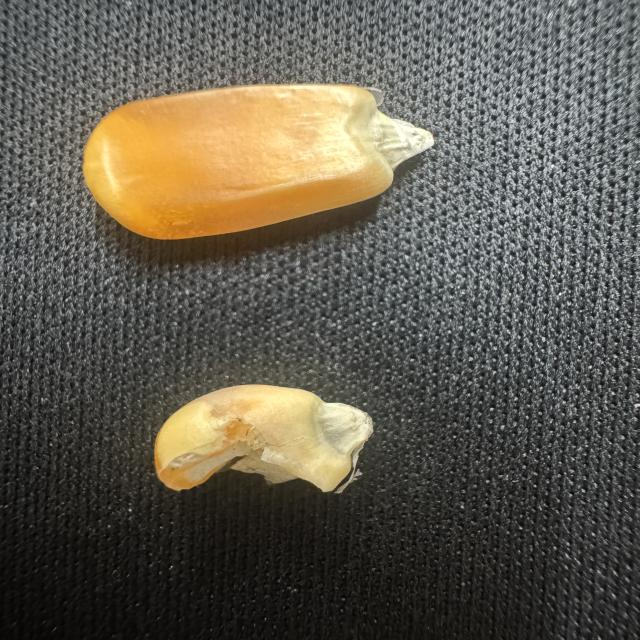Bad-Seed: (147, 382, 376, 509)
Good-Seed: (77, 78, 446, 251)
